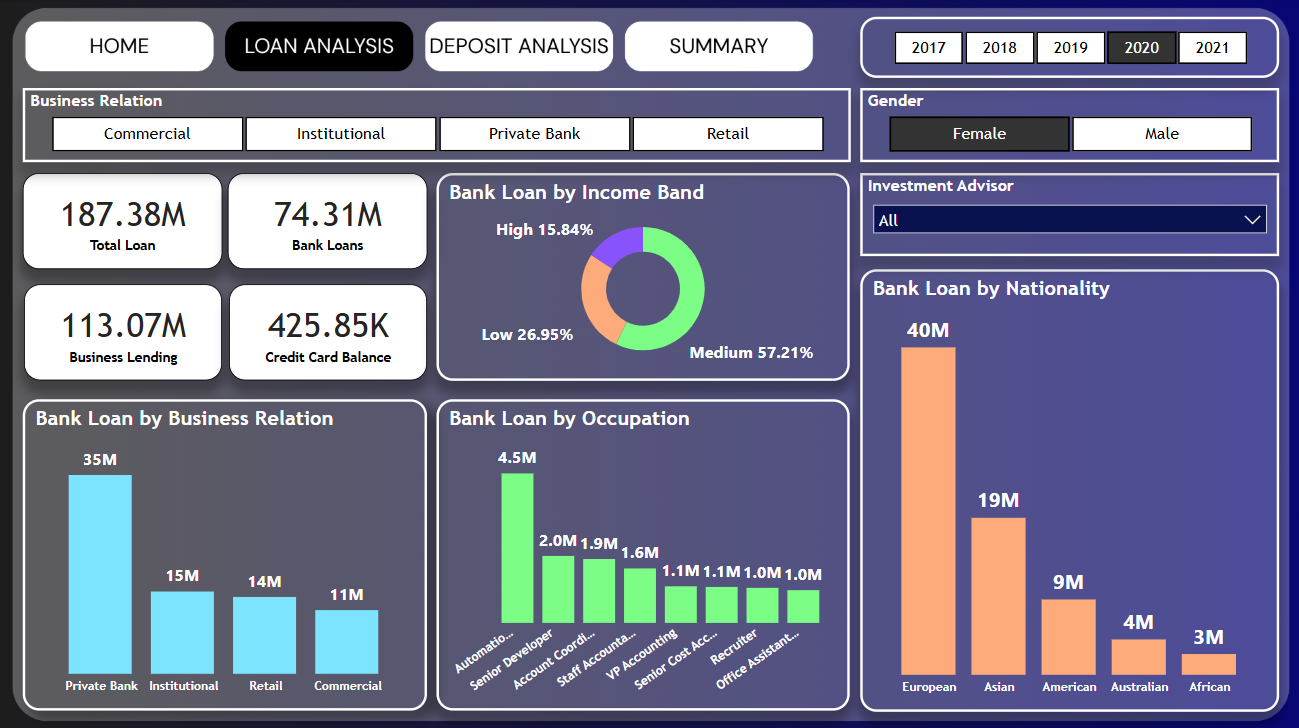

This screenshot's page, from the dashboard's own definition file:
{"tool":"powerbi","page":{"name":"Loan Analysis","canvas":[1280,720],"ordinal":1},"visuals":[{"type":"card","fields":{"Values":["Measures Table.Total Loan"]},"box":[22.9,171.4,195.7,94.3],"z":0},{"type":"card","fields":{"Values":["Sum(Banking.Business Lending)"]},"box":[24.3,281.4,194.3,94.3],"z":1000},{"type":"card","fields":{"Values":["Sum(Banking.Bank Loans)"]},"box":[224.3,171.4,195.7,94.3],"z":2000},{"type":"card","fields":{"Values":["Sum(Banking.Credit Card Balance)"]},"box":[225.7,281.4,194.3,94.3],"z":3000},{"type":"donutChart","title":"Bank Loan by Income Band","fields":{"Category":["Banking.Income Band"],"Y":["Sum(Banking.Bank Loans)"]},"box":[430,171.4,405.7,204.3],"z":4000},{"type":"clusteredColumnChart","title":"Bank Loan by Business Relation","fields":{"Y":["Sum(Banking.Bank Loans)"],"Category":["Banking.BRId"]},"box":[22.9,394.3,397.1,305.7],"z":5000},{"type":"clusteredColumnChart","title":"Bank Loan by Nationality","fields":{"Y":["Sum(Banking.Bank Loans)"],"Category":["Banking.Nationality"]},"box":[845.7,265.7,411.4,434.3],"z":6000},{"type":"clusteredColumnChart","title":"Bank Loan by Occupation","fields":{"Y":["Sum(Banking.Bank Loans)"],"Category":["Banking.Occupation"]},"box":[430,394.3,405.7,305.7],"z":7000},{"type":"slicer","title":"Business Relation","fields":{"Values":["Banking.BRId"]},"box":[22.9,88.6,812.9,72.9],"z":8000},{"type":"slicer","title":"Investment Advisor","fields":{"Values":["Banking.IAId"]},"box":[845.7,171.4,411.4,81.4],"z":9000},{"type":"slicer","fields":{"Values":["Banking.Year of Joining"]},"box":[845.7,18.6,411.4,60],"z":10000},{"type":"slicer","title":"Gender","fields":{"Values":["Banking.GenderId"]},"box":[845.7,88.6,411.4,72.9],"z":11000},{"type":"actionButton","box":[24.3,28.6,181.4,40],"z":12000},{"type":"actionButton","box":[225.7,28.6,181.4,40],"z":13000},{"type":"actionButton","box":[420,28.6,181.4,40],"z":14000},{"type":"actionButton","box":[615.7,28.6,181.4,40],"z":15000}]}

Visuals, with their boxes in screenshot pixels (x1, y1, x2, y2), scaled from the page's 1280x720 canvas onto the 1299x728 screenshot:
card - Measures Table.Total Loan: <box>23,173,222,269</box>
card - Sum(Banking.Business Lending): <box>25,285,222,380</box>
card - Sum(Banking.Bank Loans): <box>228,173,426,269</box>
card - Sum(Banking.Credit Card Balance): <box>229,285,426,380</box>
"Bank Loan by Income Band" donutChart: <box>436,173,848,380</box>
"Bank Loan by Business Relation" clusteredColumnChart: <box>23,399,426,708</box>
"Bank Loan by Nationality" clusteredColumnChart: <box>858,269,1276,708</box>
"Bank Loan by Occupation" clusteredColumnChart: <box>436,399,848,708</box>
"Business Relation" slicer: <box>23,90,848,163</box>
"Investment Advisor" slicer: <box>858,173,1276,256</box>
slicer - Banking.Year of Joining: <box>858,19,1276,79</box>
"Gender" slicer: <box>858,90,1276,163</box>
actionButton: <box>25,29,209,69</box>
actionButton: <box>229,29,413,69</box>
actionButton: <box>426,29,610,69</box>
actionButton: <box>625,29,809,69</box>
